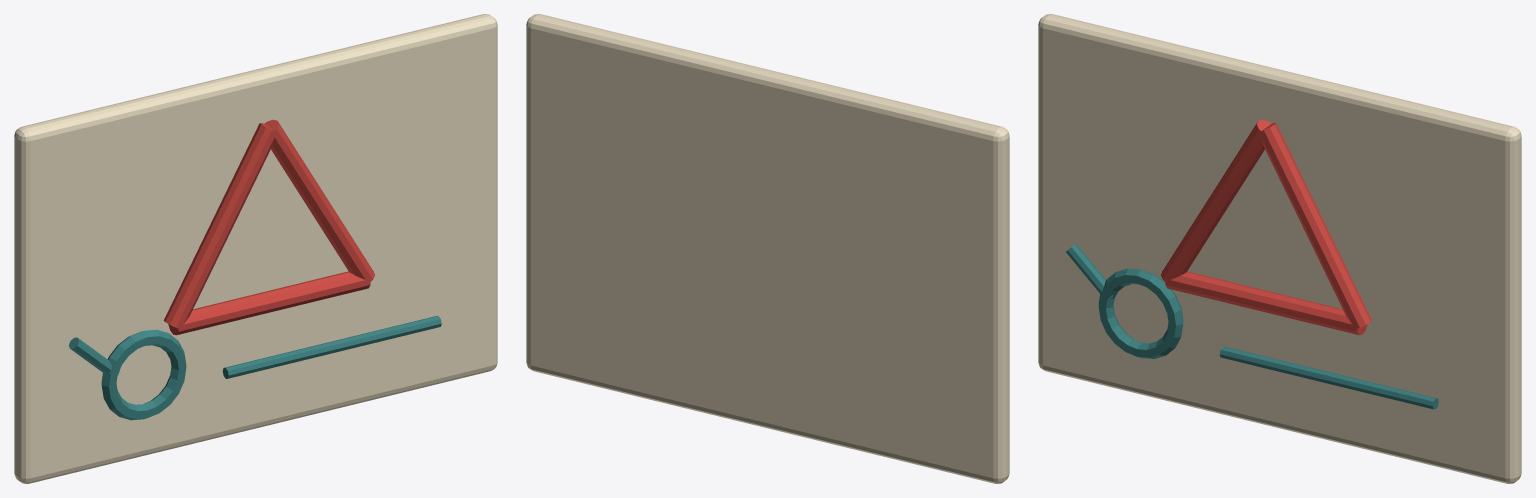
File: june-card-triangle-v1-CsNj7dmK.glb
3 renders of one model, left to right at view 1: azimuth 30°, elevation 25°; view 2: azimuth 150°, elevation 25°; view 3: azimuth 330°, elevation 25°, orthographic.
Parts seen in each view (by area): view 1: Thank-you card, June signature triangle side 1, June signature triangle side 2, June signature triangle side 3, Dog drawing body, Card message line, Dog drawing tail; view 2: Thank-you card; view 3: Thank-you card, June signature triangle side 3, June signature triangle side 2, June signature triangle side 1, Dog drawing body, Card message line, Dog drawing tail.
Boxes of the visible parts, x1,y1,x2,y2 form: Thank-you card: [14, 14, 497, 483]; June signature triangle side 1: [163, 123, 276, 328]; June signature triangle side 2: [168, 271, 370, 335]; June signature triangle side 3: [264, 119, 374, 281]; Dog drawing body: [101, 329, 186, 420]; Card message line: [222, 316, 441, 378]; Dog drawing tail: [68, 337, 119, 375]; Thank-you card: [526, 14, 1009, 483]; Thank-you card: [1038, 14, 1521, 483]; June signature triangle side 3: [1261, 123, 1372, 328]; June signature triangle side 2: [1165, 271, 1367, 335]; June signature triangle side 1: [1161, 119, 1271, 281]; Dog drawing body: [1098, 268, 1183, 358]; Card message line: [1219, 346, 1438, 409]; Dog drawing tail: [1066, 244, 1113, 299].
Size of the model in its own units: 1.64 by 1.16 by 0.1454.
